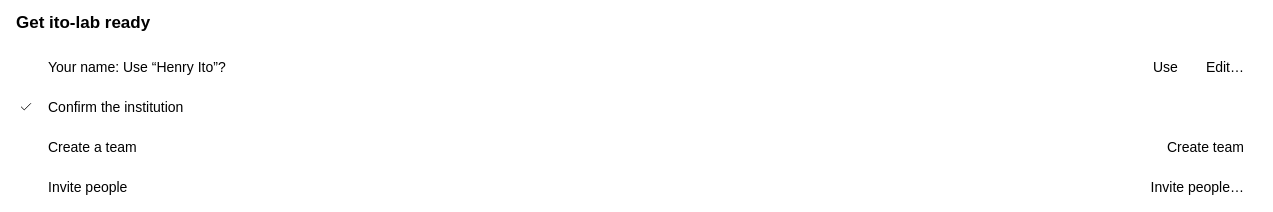
Test: SetupChecklist: the host’s name (Q3-51) › opens Edit profile from Edit…, and counts that as the answer
Check: the text "Your name: Use “Henry Ito”?" is shown, box [48,59,226,75]
Step 1. Click the button "Edit…" → [1225, 67], box [1194,57,1256,77]
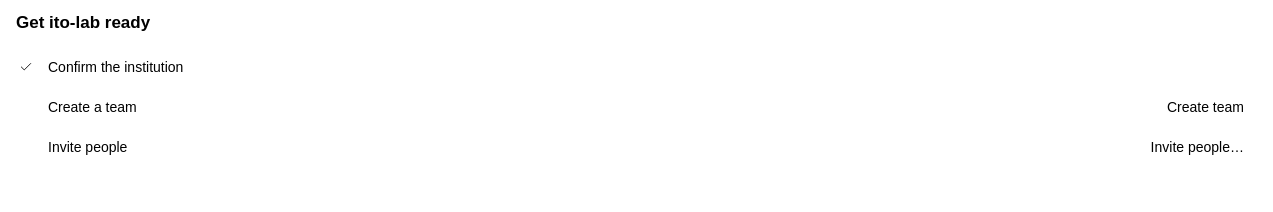
Check: the text "Your name: Use “Henry Ito”?" is gone
Check: the number of list items is 3, box [19,58,224,75]; [48,97,1256,117]; [48,137,1256,157]
